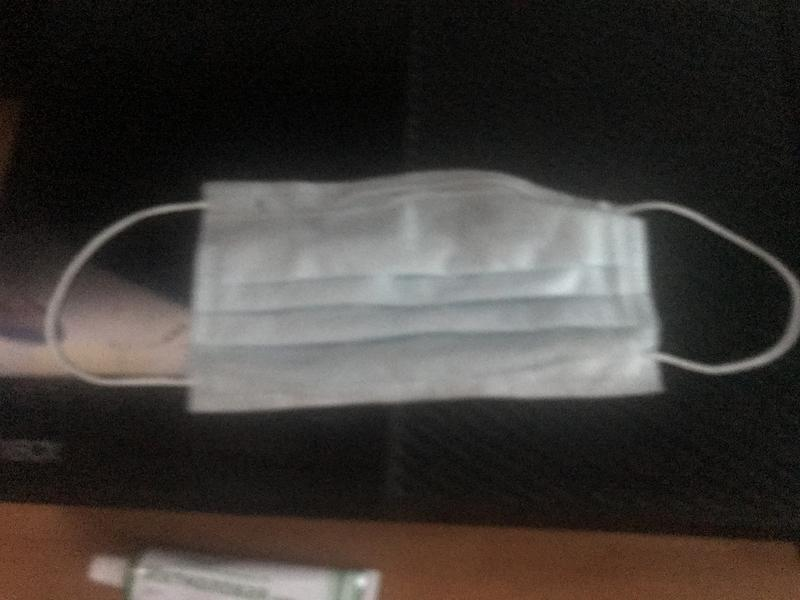medical_mask: (46, 176, 800, 410)
